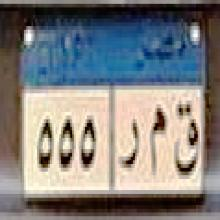5: (78, 112, 100, 174), (35, 113, 54, 178), (56, 114, 76, 172)
meem: (148, 105, 167, 179)
qaaf: (173, 99, 199, 182)
raa: (116, 113, 141, 178)
